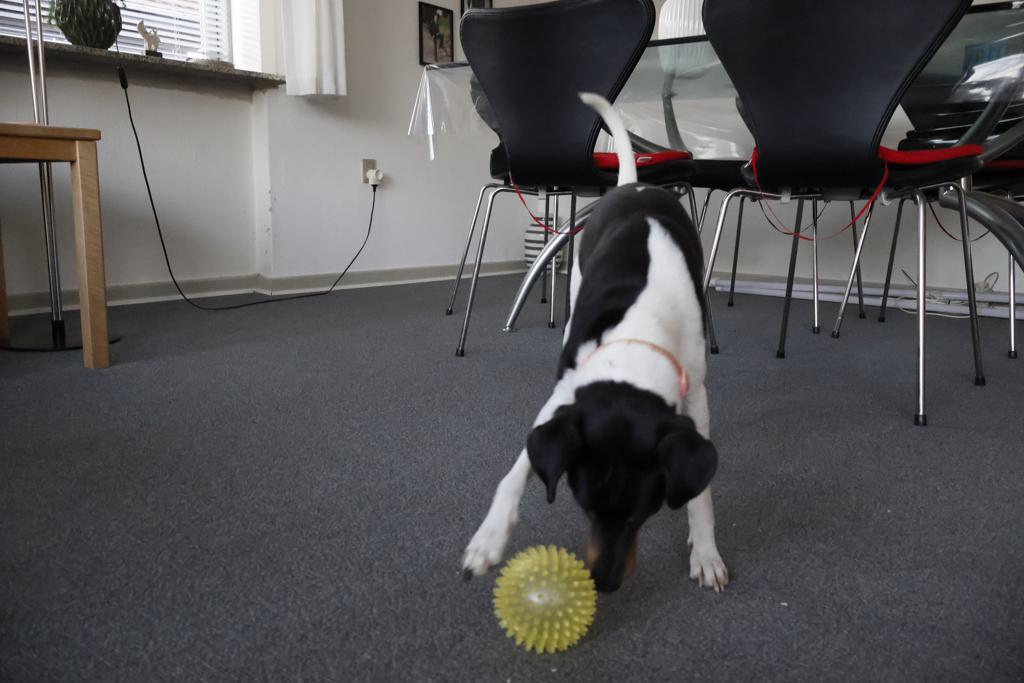Dog: (446, 81, 779, 634)
